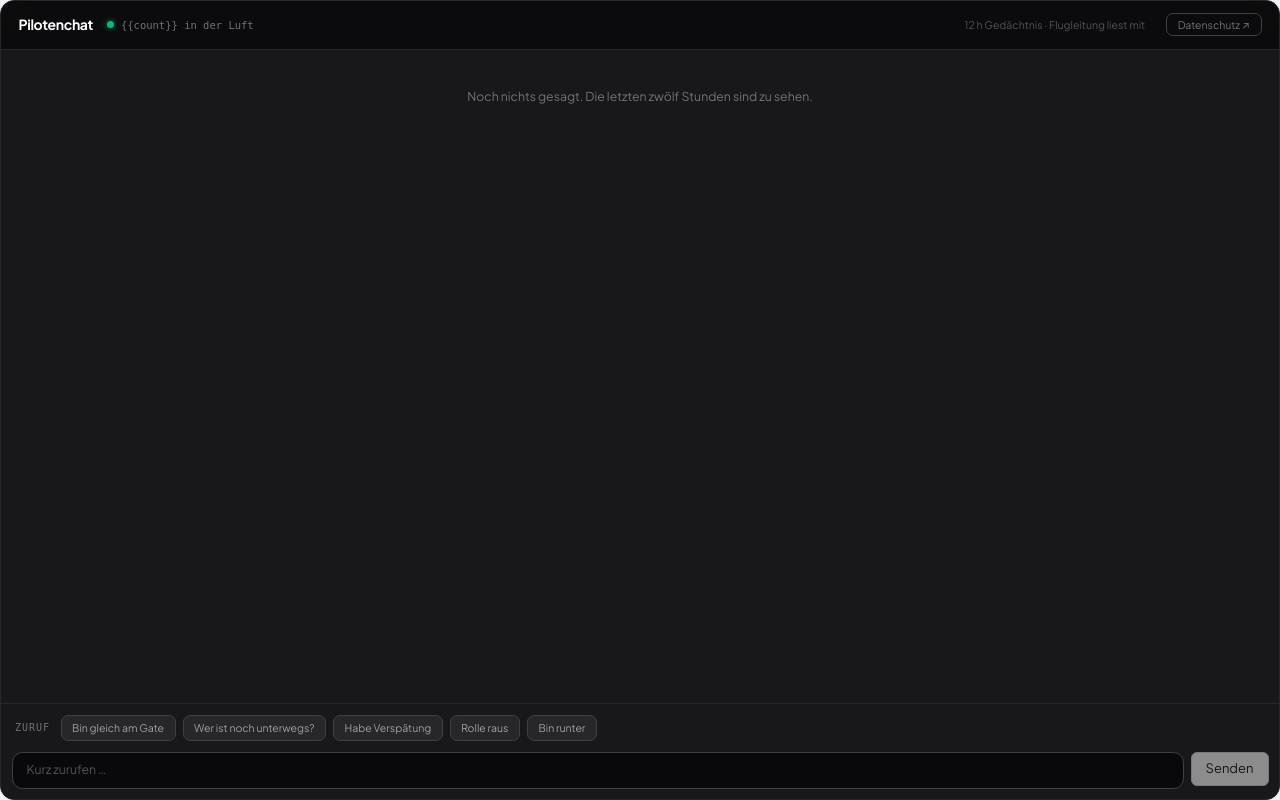
Test: Pilotenchat › warnt sichtbar, sobald die Tastatur im Chat liegt
This screenshot has width=1280, height=800.
Focus the field named "Nachricht schreiben" at (598, 770), box [12, 752, 1184, 788]
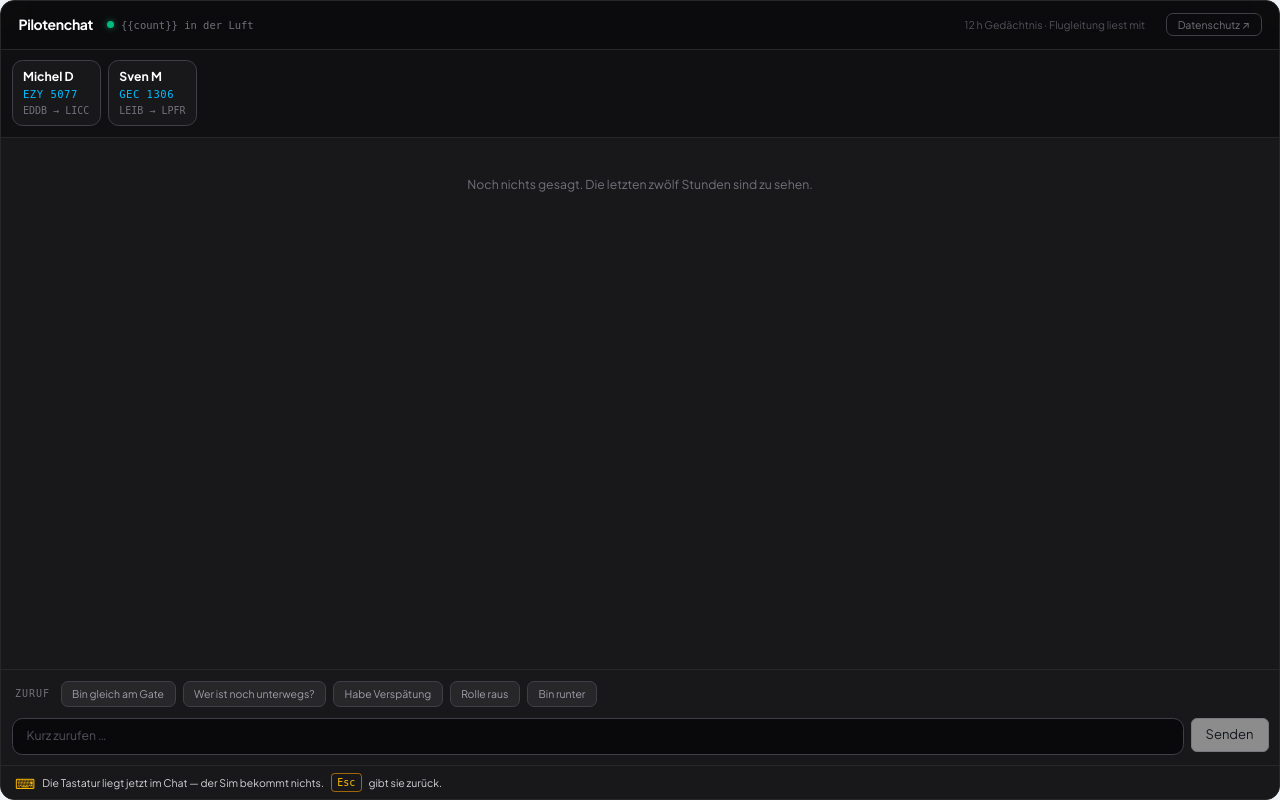
Expected: the message with class "chat__fokus" is shown, [1, 765, 1279, 799]
Leave the field named "Nachricht schreiben", box [12, 718, 1184, 755]
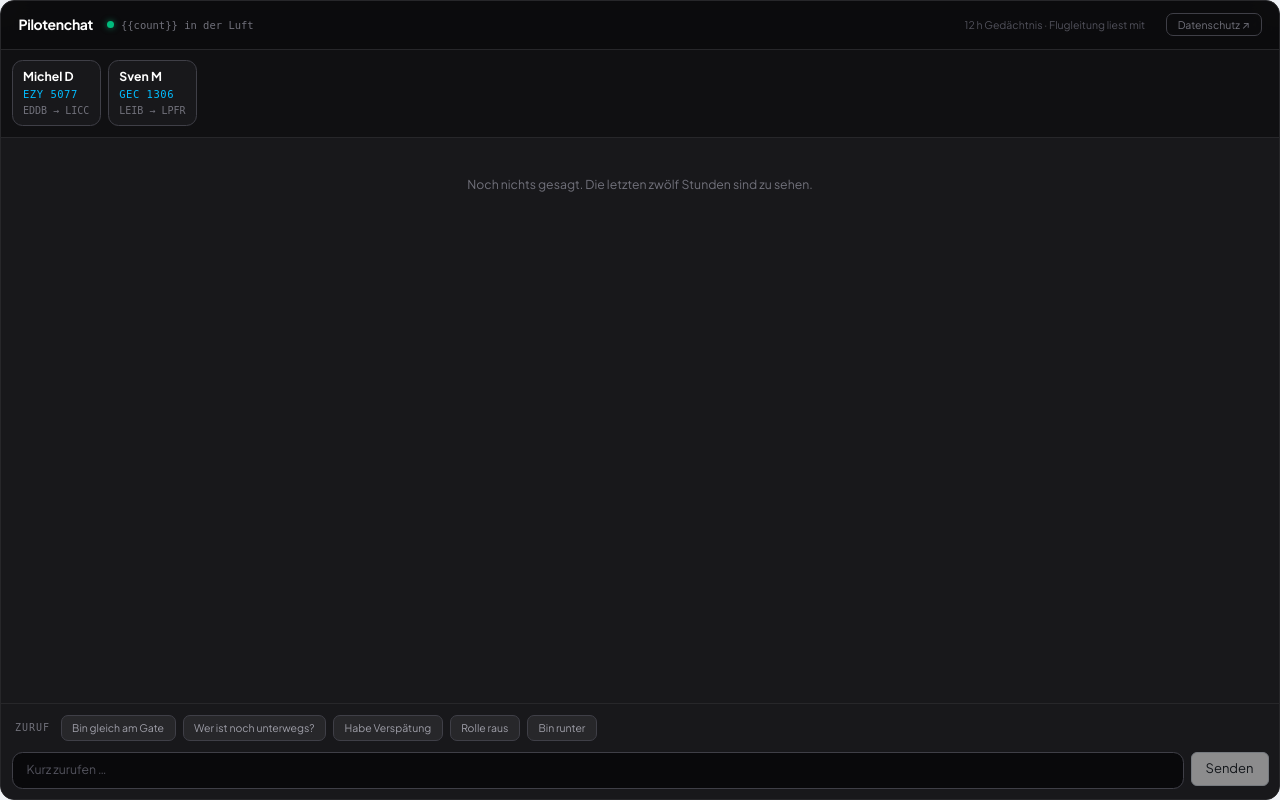
Expected: the message with class "chat__fokus" is gone
